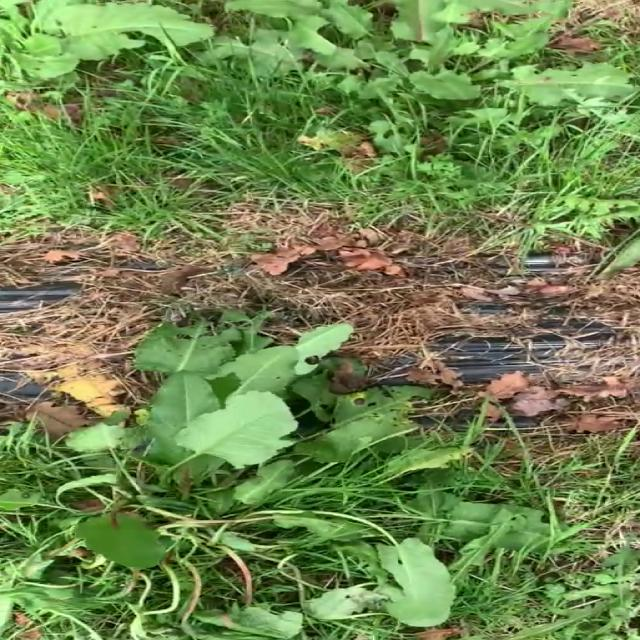organic waste: (26, 287, 546, 640), (151, 0, 640, 140), (0, 0, 228, 117)
